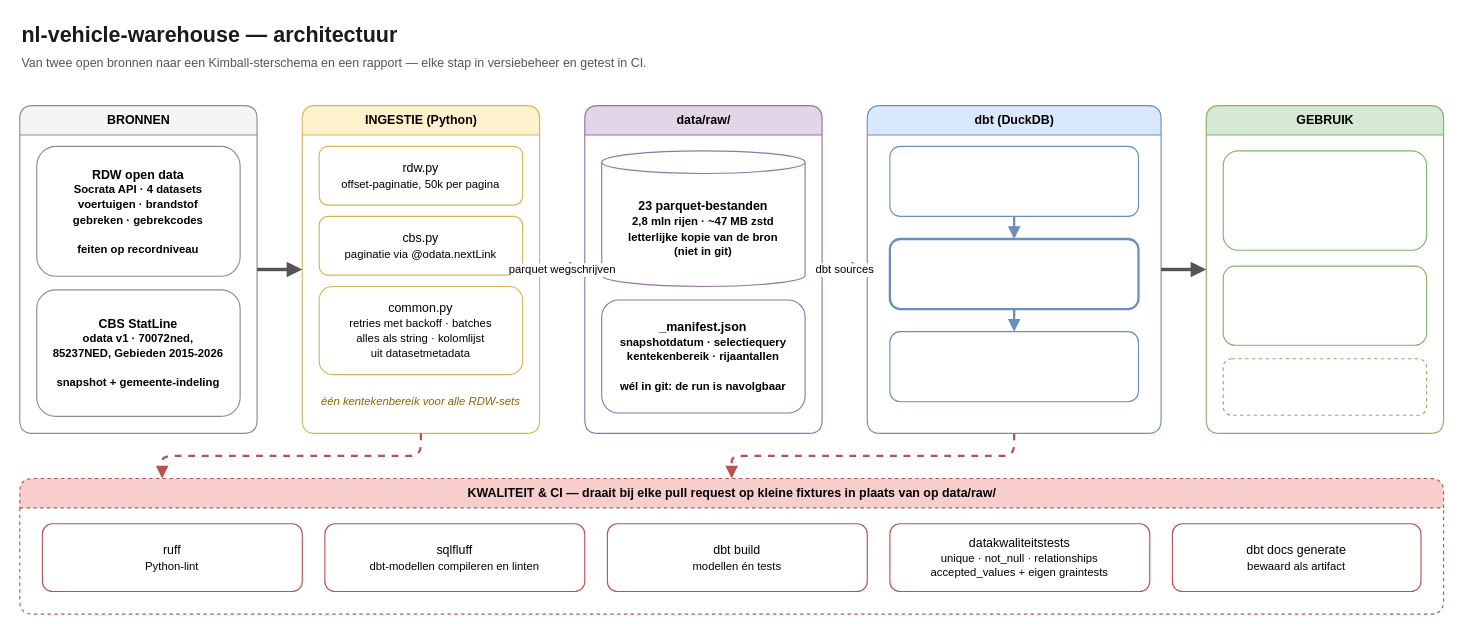
This 1463x634 diagram has some shape labels left out. Each missing label, with the centre of its shape:
"dbt docs lineage en kolomdocumentatie, als CI-artifact" goes at pixel 1324 305.
"exports/ als parquet make exports" goes at pixel 1324 386.
"marts/ — tabellen herindeling · top-gebreken RDW/CBS-aansluiting" goes at pixel 1013 366.
"Power BI semantisch model spiegelt het sterschema · bridge als many-to-many" goes at pixel 1324 200.
"staging/ — views 1:1 met de bron: typeren, hernoemen, dedup, CBS pivotten" goes at pixel 1013 180.
"warehouse/ — tabellen 2 feiten · 5 dimensies · 1 bridge Kimball-sterschema" goes at pixel 1013 273.
